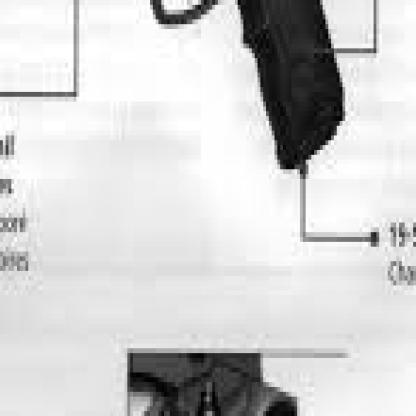gun: (37, 0, 359, 184), (116, 329, 300, 411)
